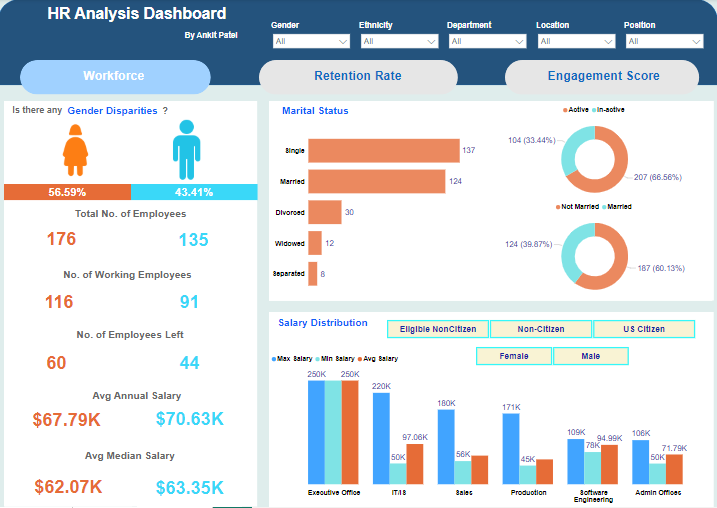

What the dashboard file says about the page in this screenshot:
{"tool":"powerbi","page":{"name":"Page 1","canvas":[1700,1200],"ordinal":0},"visuals":[{"type":"shape","box":[0,0,1700,203.9],"z":0},{"type":"actionButton","title":"HR Analysis Dashboard","box":[77.7,14,500.2,52.8],"z":1},{"type":"slicer","title":"Gender","fields":{"Values":["HR_Dataset.Sex"]},"box":[640.6,52.2,201.2,80.2],"z":2},{"type":"slicer","title":"Ethnicity ","fields":{"Values":["HR_Dataset.Ethnicity "]},"box":[848.3,51.2,202,80.6],"z":3},{"type":"slicer","title":"Location","fields":{"Values":["HR_Dataset.State"]},"box":[1265.3,51.2,202,80.6],"z":4},{"type":"slicer","title":"Department","fields":{"Values":["HR_Dataset.Department"]},"box":[1056.8,52.4,202,80.6],"z":5},{"type":"slicer","title":"Position","fields":{"Values":["HR_Dataset.Position"]},"box":[1473.8,53.1,202.2,78.8],"z":6},{"type":"shape","box":[14.1,226.2,598.4,973.8],"z":7},{"type":"image","box":[77.8,274,209.8,164.1],"z":8},{"type":"image","box":[340,274,208.1,164.1],"z":9},{"type":"barChart","fields":{"Category":["HR_Dataset.Ethnicity "],"Y":["CountNonNull(HR_Dataset.Ethnicity )"]},"box":[640.9,245.1,697.5,419.9],"z":12},{"type":"card","fields":{"Values":["Measures Table.% Female"]},"box":[13,437.7,300,37.7],"z":14},{"type":"card","fields":{"Values":["Measures Table.Male %"]},"box":[313,437.7,298.6,37.7],"z":15},{"type":"card","fields":{"Values":["Measures Table.Total Female"]},"box":[29,530.4,242,66.7],"z":16},{"type":"card","fields":{"Values":["Measures Table.Female Active"]},"box":[12,675.2,246.8,75.4],"z":17},{"type":"card","fields":{"Values":["Measures Table.Female In-active"]},"box":[15.4,828.9,243.3,54.8],"z":18},{"type":"card","fields":{"Values":["Measures Table.Female Avg Salary"]},"box":[15.4,961.4,291.3,61.7],"z":19},{"type":"card","fields":{"Values":["Measures Table.Female MEDIAN Salary"]},"box":[15.4,1101.9,299.9,97.7],"z":20},{"type":"actionButton","title":"Total No. of Employees","box":[13,494.2,598.6,36.2],"z":21},{"type":"actionButton","title":"No. of Working Employees","box":[0,637.3,611.8,36],"z":22},{"type":"actionButton","title":"No. of Employees Left","box":[12,780.2,599.8,36],"z":23},{"type":"actionButton","title":"Avg Median Salary","box":[12,1065.9,599.8,36],"z":24},{"type":"actionButton","title":"Avg Annual Salary","box":[29.1,923.1,599.8,36],"z":25},{"type":"card","fields":{"Values":["Measures Table.Total Male"]},"box":[312.6,534,298.4,66],"z":26},{"type":"card","fields":{"Values":["Measures Table.Male Active"]},"box":[328.3,675.4,248.2,75.4],"z":27},{"type":"card","fields":{"Values":["Measures Table.Male In-active"]},"box":[328.3,829.3,248.2,55],"z":28},{"type":"card","fields":{"Values":["Measures Table.Male Avg Salary"]},"box":[328.3,959.7,248.2,61.3],"z":29},{"type":"card","fields":{"Values":["Measures Table.Male Median Salary"]},"box":[328.3,1102.6,248.2,97.4],"z":30},{"type":"actionButton","title":"Is there any","box":[12,238.2,181.7,36],"z":31},{"type":"actionButton","title":"Gender Disparities","box":[166.2,238.2,219.4,36],"z":32},{"type":"actionButton","title":"?","box":[385.6,241.6,27.4,29.1],"z":33}]}

Visuals, with their boxes in screenshot pixels (x1, y1, x2, y2), scaled from the page's 1700x1200 canvas onto the 717x508 screenshot:
shape: select_region(0, 0, 716, 86)
"HR Analysis Dashboard" actionButton: select_region(33, 6, 244, 28)
"Gender" slicer: select_region(270, 22, 355, 56)
"Ethnicity " slicer: select_region(358, 22, 443, 56)
"Location" slicer: select_region(534, 22, 619, 56)
"Department" slicer: select_region(446, 22, 531, 56)
"Position" slicer: select_region(622, 22, 707, 56)
shape: select_region(6, 96, 258, 507)
image: select_region(33, 116, 121, 185)
image: select_region(143, 116, 231, 185)
barChart - HR_Dataset.Ethnicity  x CountNonNull(HR_Dataset.Ethnicity ): select_region(270, 104, 564, 282)
card - Measures Table.% Female: select_region(5, 185, 132, 201)
card - Measures Table.Male %: select_region(132, 185, 258, 201)
card - Measures Table.Total Female: select_region(12, 225, 114, 253)
card - Measures Table.Female Active: select_region(5, 286, 109, 318)
card - Measures Table.Female In-active: select_region(6, 351, 109, 374)
card - Measures Table.Female Avg Salary: select_region(6, 407, 129, 433)
card - Measures Table.Female MEDIAN Salary: select_region(6, 466, 133, 507)
"Total No. of Employees" actionButton: select_region(5, 209, 258, 225)
"No. of Working Employees" actionButton: select_region(0, 270, 258, 285)
"No. of Employees Left" actionButton: select_region(5, 330, 258, 346)
"Avg Median Salary" actionButton: select_region(5, 451, 258, 466)
"Avg Annual Salary" actionButton: select_region(12, 391, 265, 406)
card - Measures Table.Total Male: select_region(132, 226, 258, 254)
card - Measures Table.Male Active: select_region(138, 286, 243, 318)
card - Measures Table.Male In-active: select_region(138, 351, 243, 374)
card - Measures Table.Male Avg Salary: select_region(138, 406, 243, 432)
card - Measures Table.Male Median Salary: select_region(138, 467, 243, 507)
"Is there any" actionButton: select_region(5, 101, 82, 116)
"Gender Disparities" actionButton: select_region(70, 101, 163, 116)
"?" actionButton: select_region(163, 102, 174, 115)
